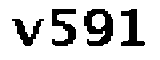1: (118, 8, 147, 52)
5: (48, 5, 78, 50)
9: (82, 8, 114, 48)
v: (6, 15, 44, 48)
